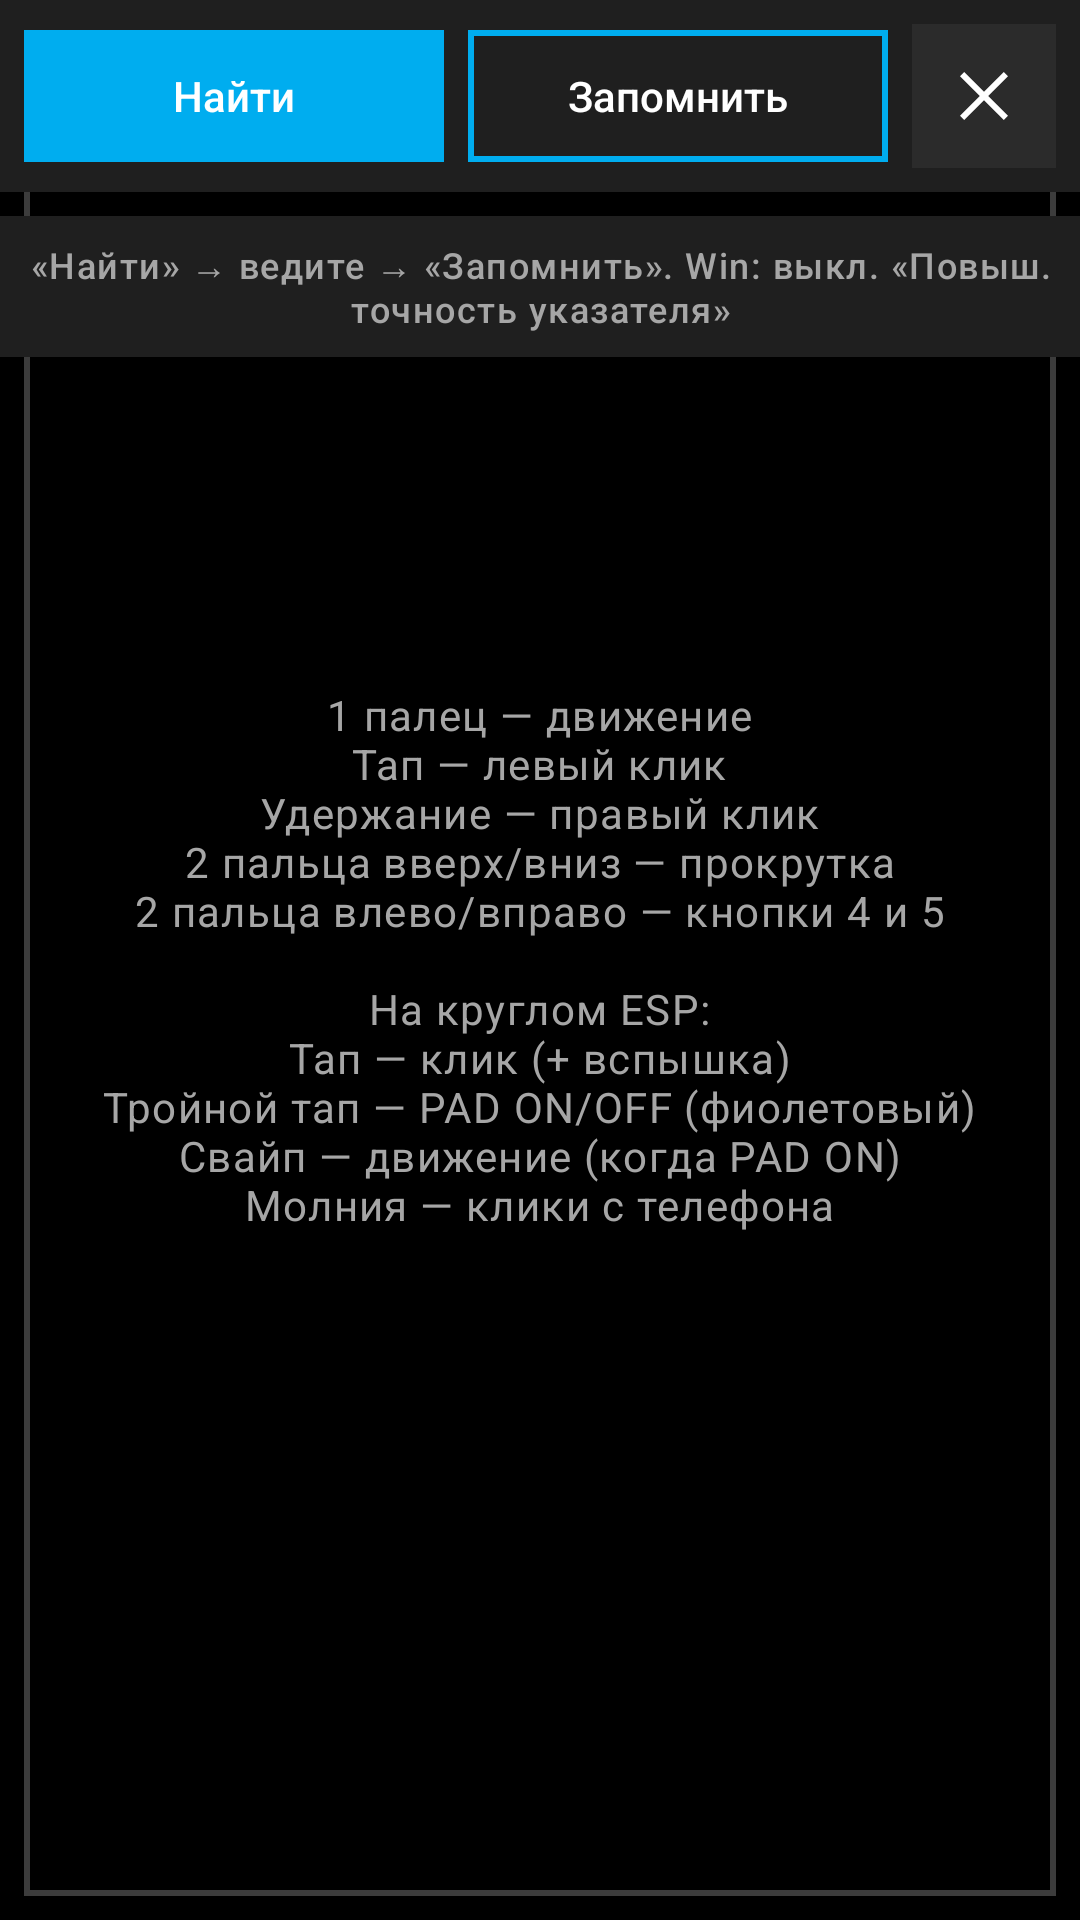

Where to tap for icons on this 1080w x 1920h app screen, as (x=x, y=y):
Закрыть тачпад: (x=984, y=96)
